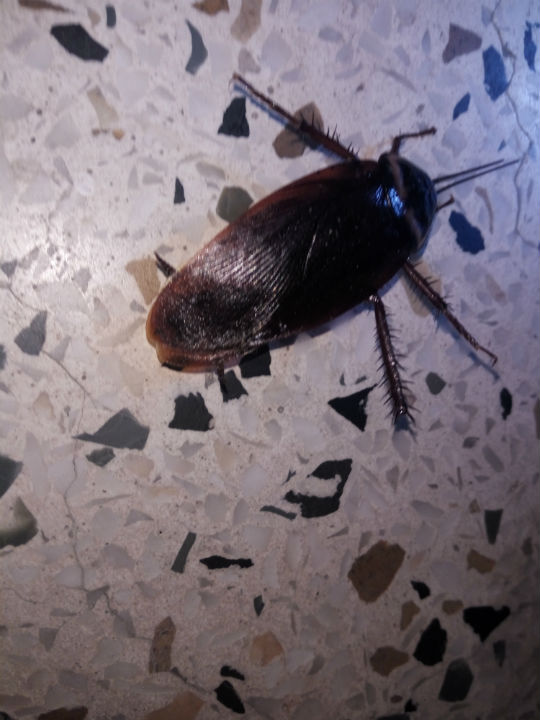cockroach: (117, 72, 521, 435)
